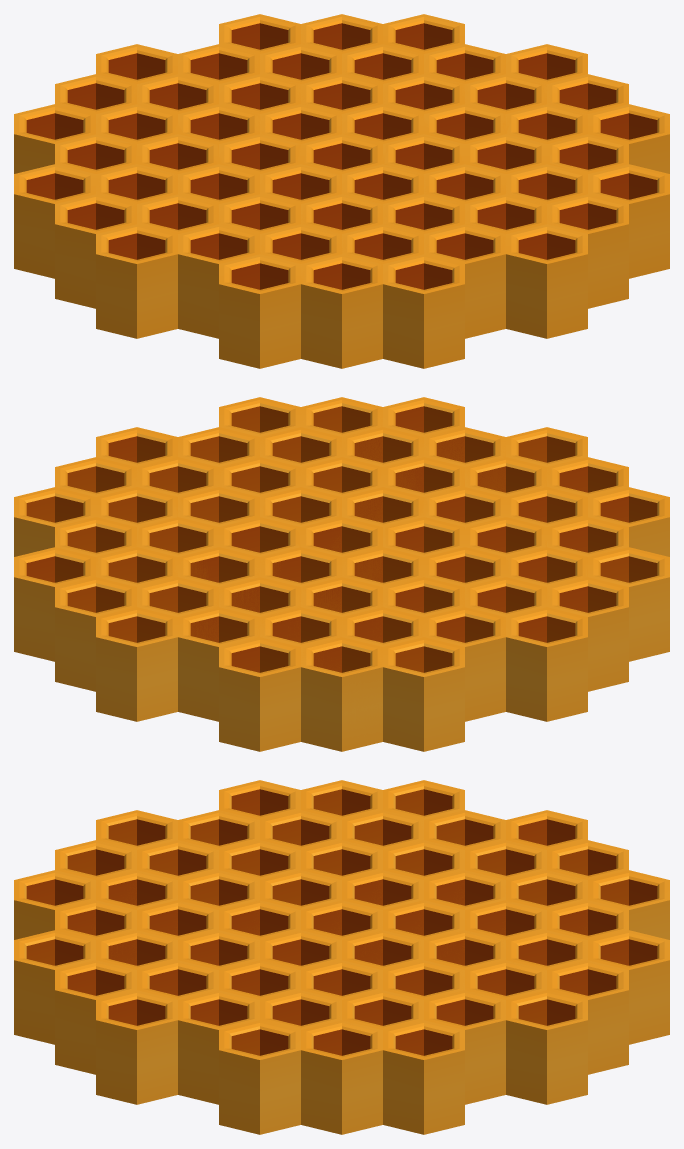
The model's file is CellBig.fbx.
3 renders of one model, top to bottom at view 1: azimuth 30°, elevation 25°; view 2: azimuth 150°, elevation 25°; view 3: azimuth 270°, elevation 25°, orthographic.
Parts seen in each view (by area): view 1: CellBig_LOD0; view 2: CellBig_LOD0; view 3: CellBig_LOD0.
Part boxes in pixels (box(x1,y1,x2,y2)): CellBig_LOD0: box(14, 14, 669, 368); CellBig_LOD0: box(14, 397, 669, 751); CellBig_LOD0: box(14, 780, 669, 1134).
Size of what is drawn, in the model's own units: 278 by 34.54 by 275.
